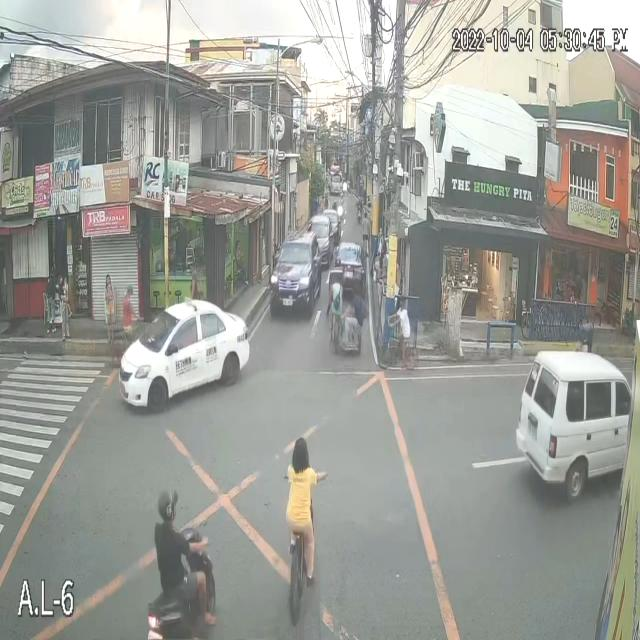Full-Faced: (356, 192, 366, 214)
Half-Faced: (155, 488, 181, 528)
Not-Wearing-Helmet: (290, 441, 310, 468)
